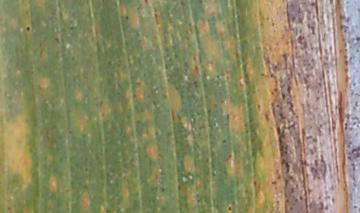tarspot: (262, 112, 271, 122), (255, 101, 262, 113), (225, 204, 233, 213), (24, 25, 32, 32), (220, 137, 227, 144), (122, 14, 129, 20), (141, 1, 150, 4)
